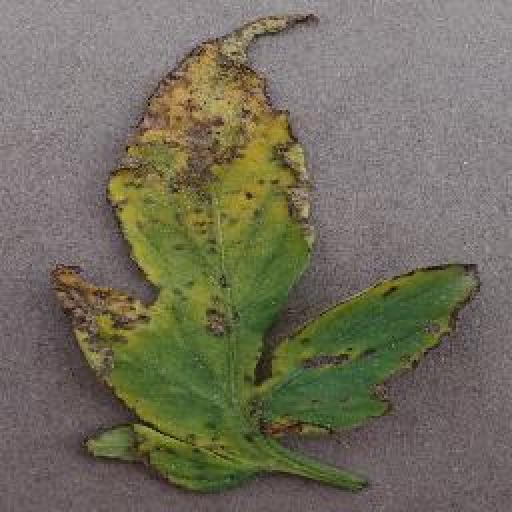Bacterial Spot: (39, 2, 489, 499)
